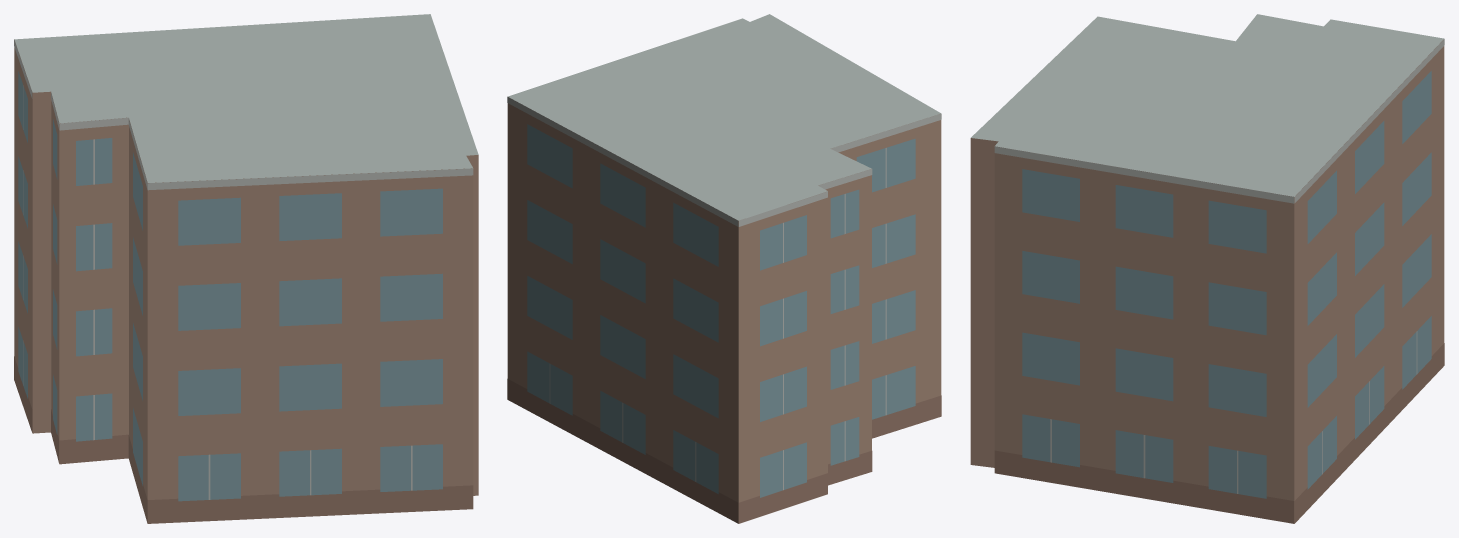
File: survey-upis-32667121.glb
3 renders of one model, left to right at view 1: azimuth 30°, elevation 25°; view 2: azimuth 150°, elevation 25°; view 3: azimuth 270°, elevation 25°, orthographic. The views are drawn at different scales.
Visible parts, largest first — view 1: survey-upis-32667121.tmp; view 2: survey-upis-32667121.tmp; view 3: survey-upis-32667121.tmp.
Part boxes in pixels (bbox=[...]): survey-upis-32667121.tmp: bbox=[14, 14, 478, 523]; survey-upis-32667121.tmp: bbox=[507, 14, 941, 523]; survey-upis-32667121.tmp: bbox=[970, 14, 1444, 523].
Size of the model in its own units: 14.04 by 11.7 by 15.38.
